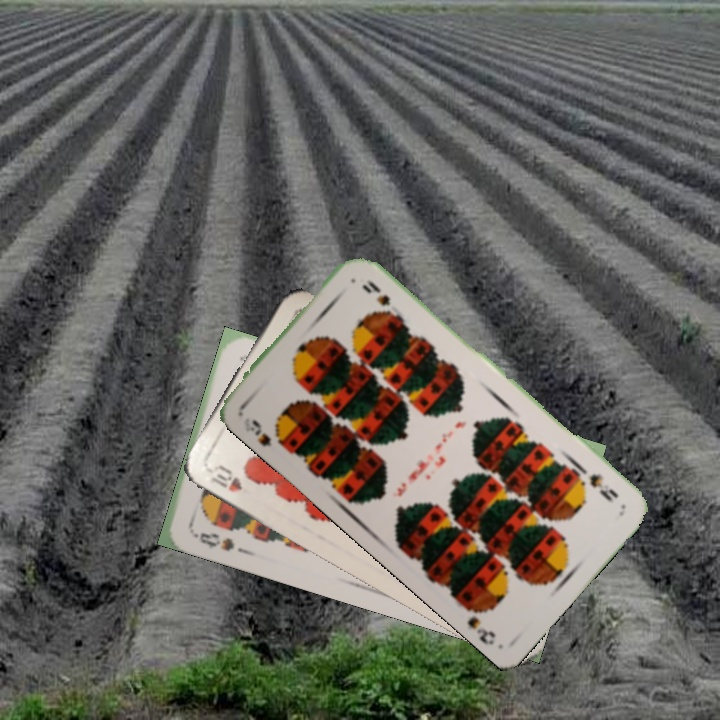H10: (205, 461, 245, 495)
S8: (186, 519, 237, 554)
S9: (239, 413, 289, 450), (574, 469, 622, 504)
